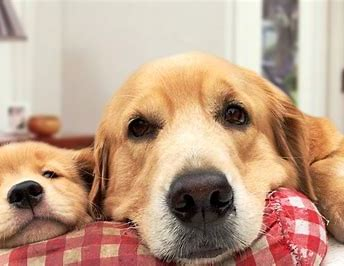dog: (81, 52, 285, 256), (4, 141, 98, 243)
